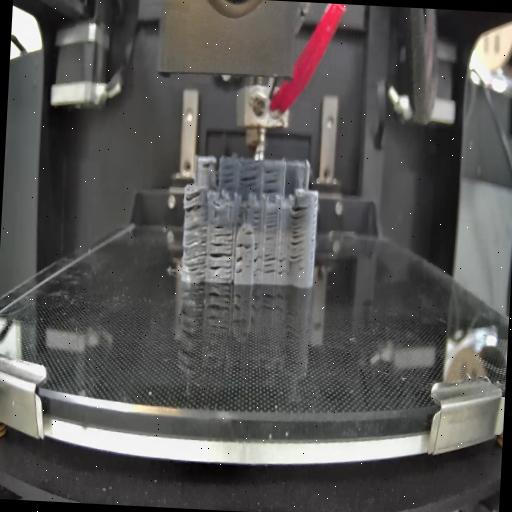cracks: (288, 204, 309, 266), (182, 224, 208, 274), (210, 241, 234, 277), (184, 190, 208, 216), (240, 164, 262, 192), (264, 167, 281, 196), (214, 220, 235, 240), (221, 164, 237, 190), (266, 208, 278, 242), (254, 242, 264, 278), (263, 252, 278, 276), (278, 249, 288, 278), (251, 208, 264, 229), (236, 206, 246, 228), (235, 256, 245, 274), (236, 241, 252, 251), (200, 162, 215, 171), (244, 230, 254, 238)
